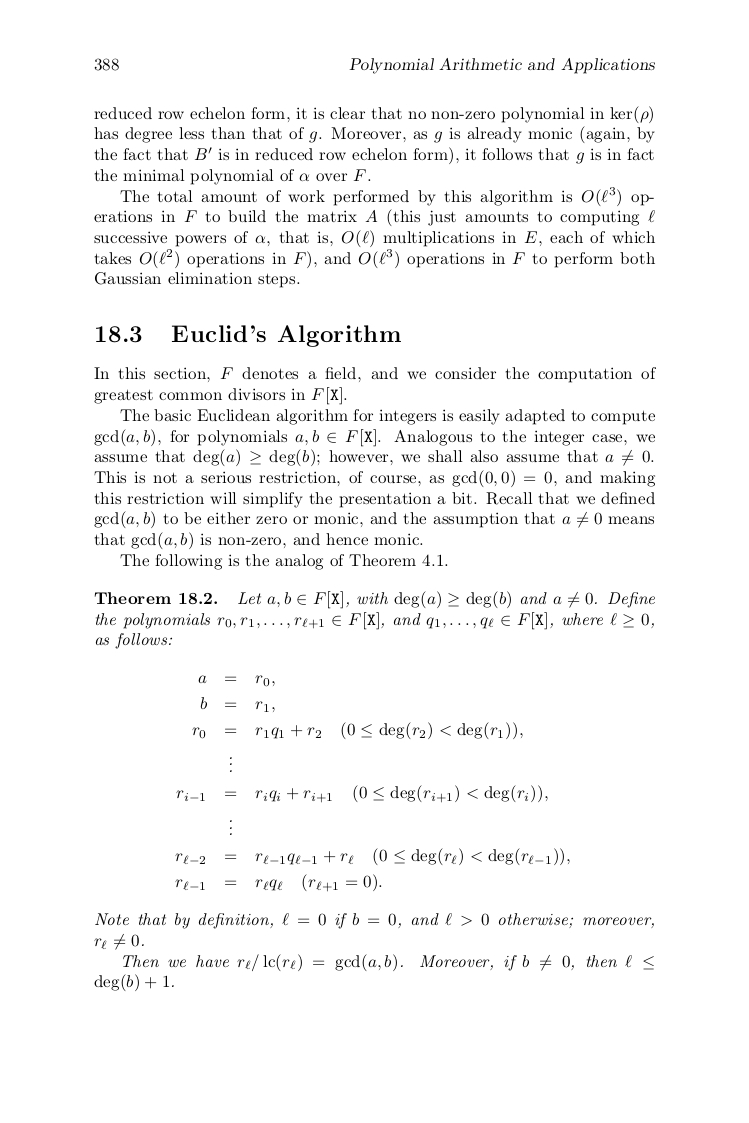formula: (175, 847, 569, 866), (176, 784, 547, 803), (192, 721, 522, 740), (175, 873, 381, 892), (200, 696, 274, 712), (198, 674, 274, 687)
